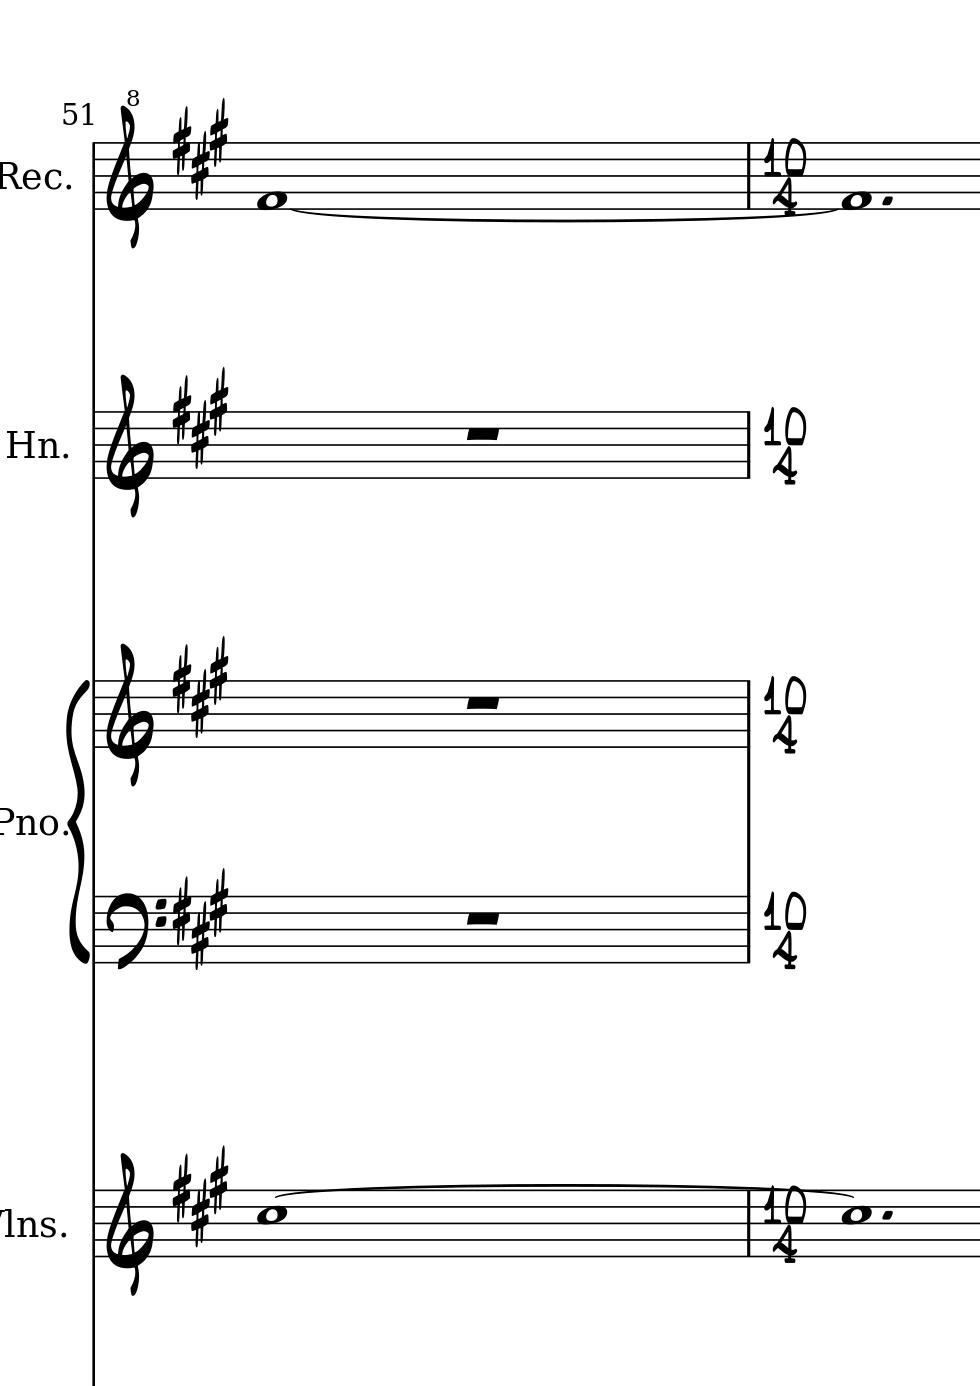0: (778, 404, 808, 449), (778, 889, 807, 933), (783, 673, 808, 716), (784, 1183, 809, 1224), (785, 135, 808, 175)
1: (762, 673, 784, 716), (762, 136, 783, 179), (762, 404, 783, 445), (762, 889, 782, 932), (763, 1183, 783, 1225), (80, 101, 94, 129)
1_1: (253, 139, 288, 214), (840, 139, 874, 214)
1_5: (255, 1188, 288, 1258), (840, 1188, 873, 1259)
4: (769, 448, 803, 488), (768, 715, 802, 755), (770, 933, 802, 972), (771, 1224, 801, 1265), (769, 179, 801, 217)
5: (62, 100, 77, 128)
A_S: (169, 363, 229, 470), (169, 1144, 230, 1249), (170, 633, 229, 739), (170, 97, 229, 199)
Brace: (67, 676, 91, 966)
Fclef: (104, 890, 168, 972)
Gclef: (102, 1150, 158, 1295), (103, 641, 156, 788), (103, 372, 156, 517)
High_Gclef: (103, 86, 155, 248)
Hn: (5, 425, 62, 464)
Rec: (1, 160, 63, 191)
Rests1: (461, 422, 504, 444), (461, 907, 504, 929), (461, 691, 504, 713)
Single_barline: (739, 411, 756, 478), (739, 681, 755, 747), (739, 896, 755, 962), (87, 413, 100, 480), (87, 1190, 100, 1258), (87, 143, 100, 210), (88, 897, 101, 963), (89, 681, 101, 749)
TimeSig: (763, 136, 806, 216), (765, 676, 808, 756), (764, 888, 807, 968), (762, 406, 805, 486), (764, 1185, 806, 1265)
dot: (879, 193, 894, 208), (879, 1208, 894, 1222)
